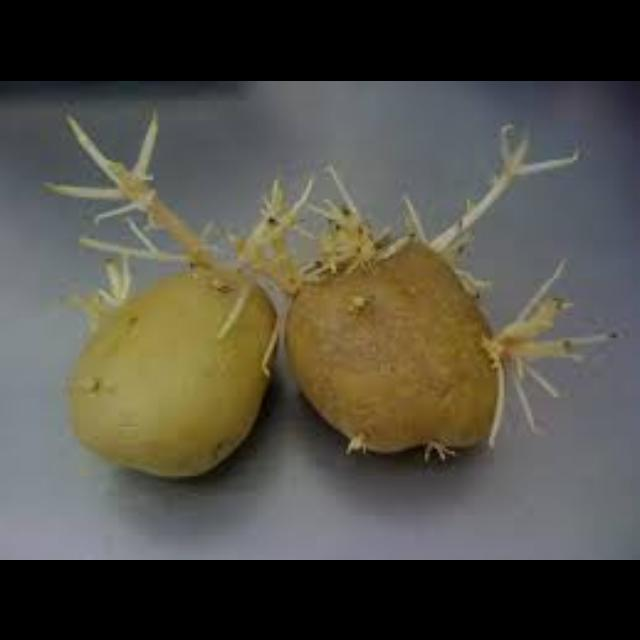Sprouted potato: (248, 121, 626, 488), (56, 139, 292, 495)
